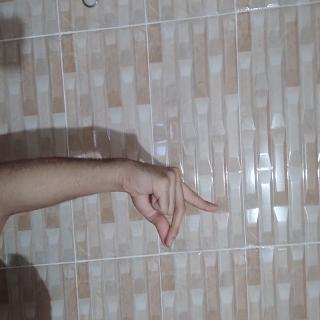TAA: (116, 135, 188, 273)
